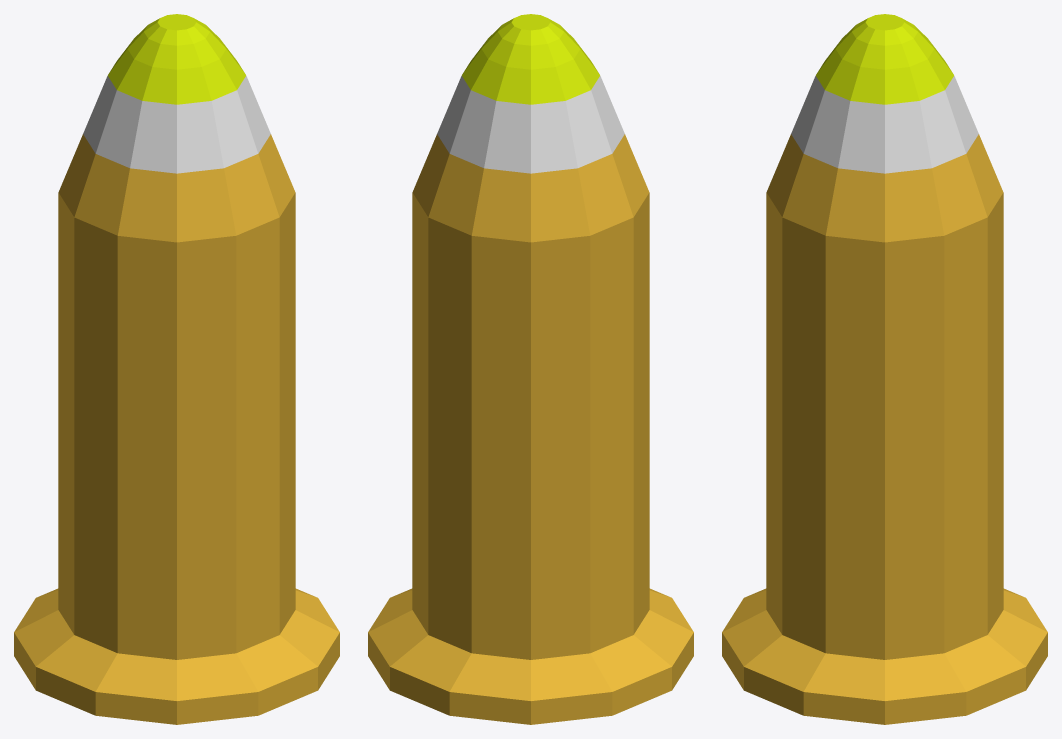
The model's file is HE Shell .fbx.
3 views of the same model, side by side, from view 1: azimuth 30°, elevation 25°; view 2: azimuth 150°, elevation 25°; view 3: azimuth 270°, elevation 25° (orthographic).
Visible parts, largest first — view 1: Cylinder; view 2: Cylinder; view 3: Cylinder.
Part boxes in pixels (x1=…): Cylinder: x1=14, y1=14, x2=339, y2=724; Cylinder: x1=368, y1=14, x2=693, y2=724; Cylinder: x1=722, y1=14, x2=1047, y2=724.
Size of the model in its own units: 200 by 429 by 200.
